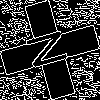N: (25, 25, 78, 72)
